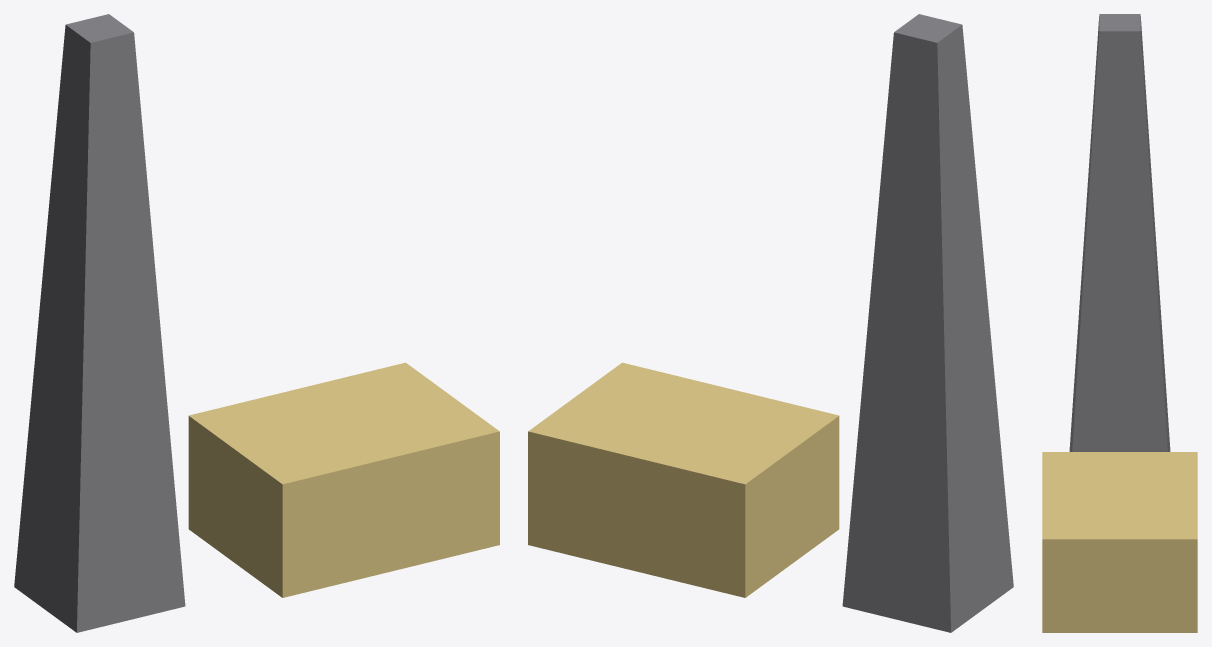
Rendered from prop-try-square-rivet-set-ts1.fbx.
The picture shows the model from 3 angles, left to right: view 1: azimuth 30°, elevation 25°; view 2: azimuth 150°, elevation 25°; view 3: azimuth 270°, elevation 25°; orthographic projection. The views are drawn at different scales.
Visible parts, largest first — view 1: prop-try-square-rivet-set-ts1; view 2: prop-try-square-rivet-set-ts1; view 3: prop-try-square-rivet-set-ts1.
Boxes of the visible parts, x1=… form: prop-try-square-rivet-set-ts1: x1=14, y1=14, x2=499, y2=632; prop-try-square-rivet-set-ts1: x1=528, y1=14, x2=1013, y2=632; prop-try-square-rivet-set-ts1: x1=1042, y1=14, x2=1197, y2=632.
Size of the model in its own units: 7.5 by 10 by 3.
